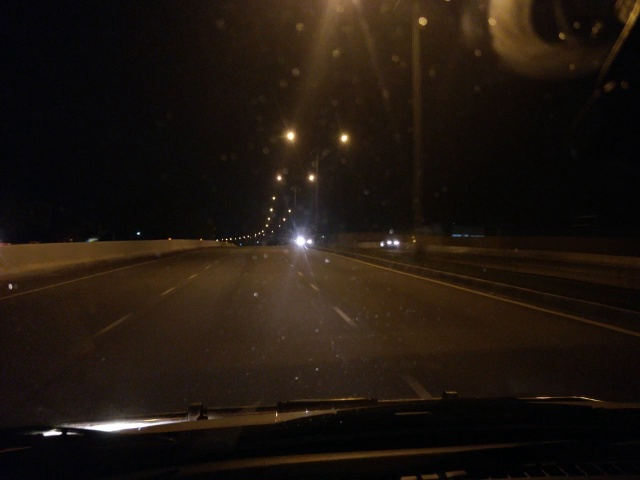car: (291, 237, 310, 250)
